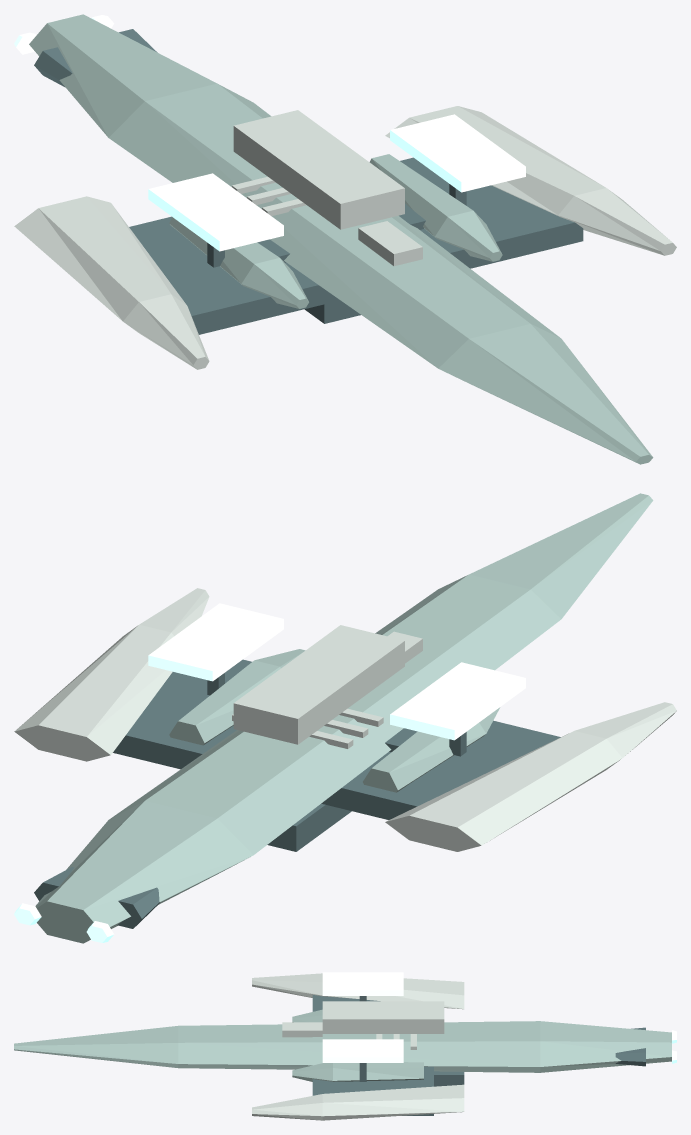
The picture shows the model from 3 angles, top to bottom: view 1: azimuth 30°, elevation 25°; view 2: azimuth 150°, elevation 25°; view 3: azimuth 270°, elevation 25°; orthographic projection. The views are drawn at different scales.
Bounding box in the file's own units: 7.38 × 1.64 × 14.93.
